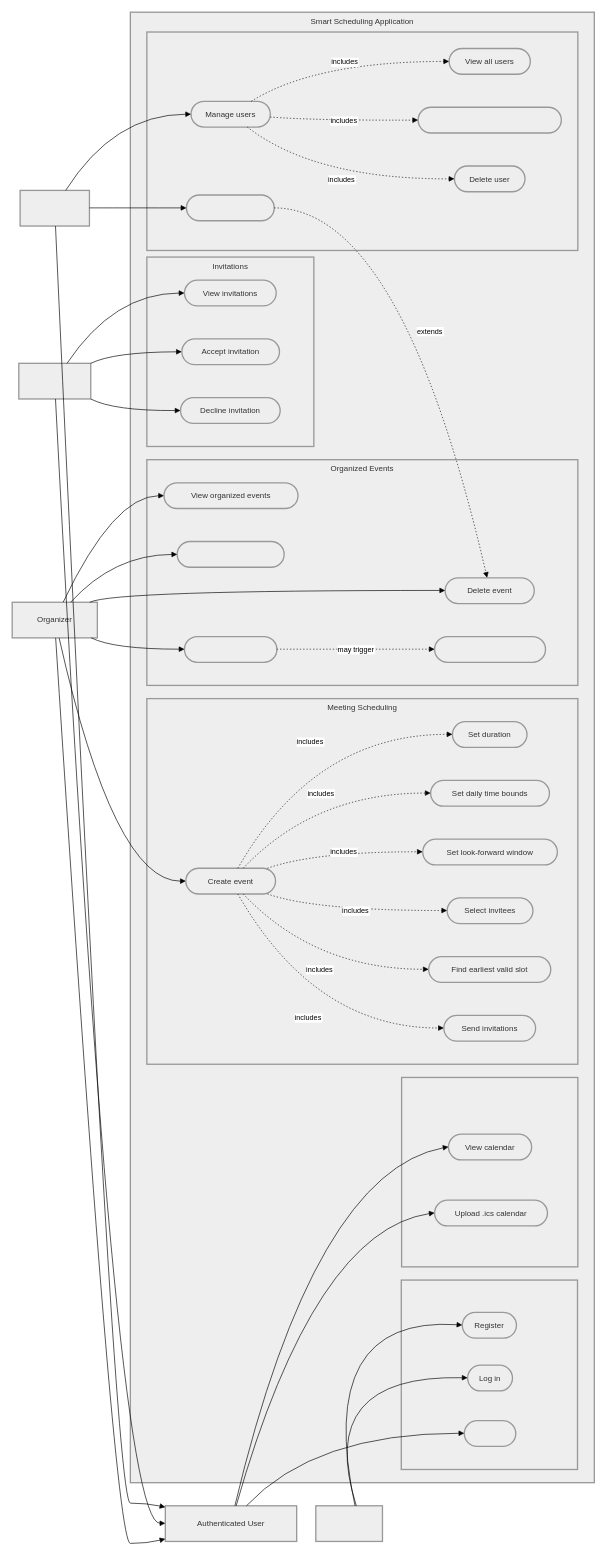
The diagram is 606 pixels wide and 1555 high, and some of its shapes have lost their labels. The shapes that lost their labels are listed below. From the top down, each one's box as (x1, y1, x2, y2) in pixels, then its label:
(417, 106, 562, 133): Update permissions / roles
(146, 31, 578, 251): Administration
(19, 189, 90, 226): Admin
(185, 194, 275, 221): View all events
(18, 362, 91, 399): Invitee
(176, 541, 284, 568): View RSVP statuses
(183, 636, 277, 663): Update event
(434, 636, 546, 663): Reschedule event
(401, 1076, 578, 1267): Dashboard and Calendar
(400, 1279, 578, 1470): Authentication
(463, 1420, 516, 1447): Log out
(315, 1505, 383, 1542): Guest
